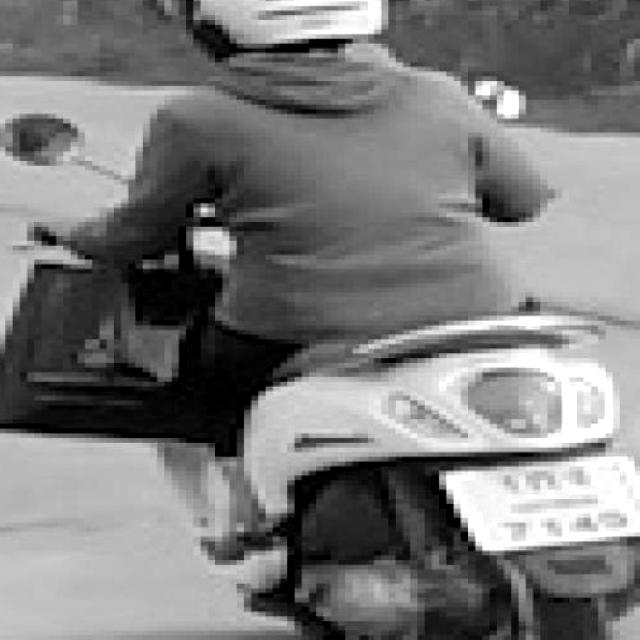letters: (564, 459, 596, 498), (495, 462, 523, 496), (526, 461, 550, 499), (498, 521, 531, 544), (545, 519, 571, 543), (605, 508, 631, 532), (575, 512, 592, 540)
license-plate: (436, 453, 640, 553)
province: (506, 492, 613, 512)
